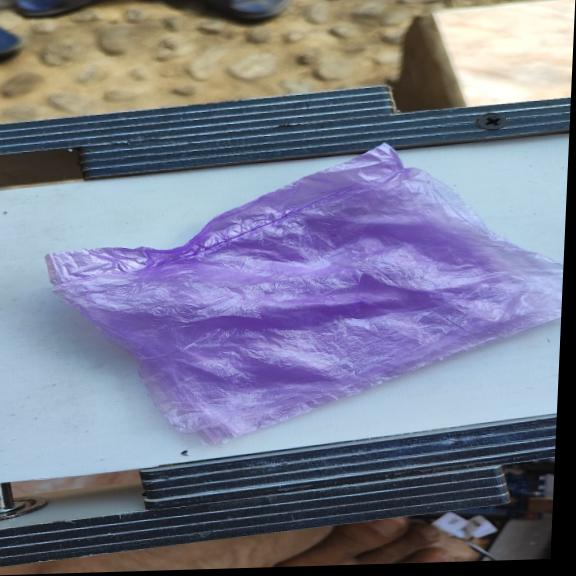Plastik: (34, 136, 569, 450)
